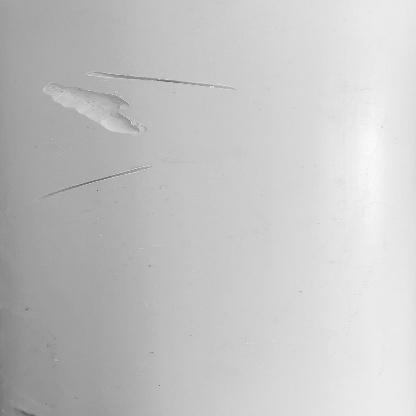sunshang: (45, 82, 142, 136), (82, 66, 240, 93), (40, 164, 151, 198)
